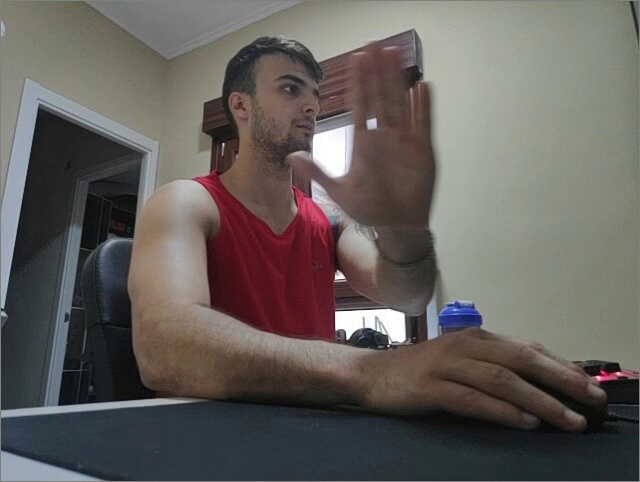Palm: (288, 39, 437, 224)
